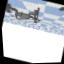drone: (3, 0, 43, 25)
